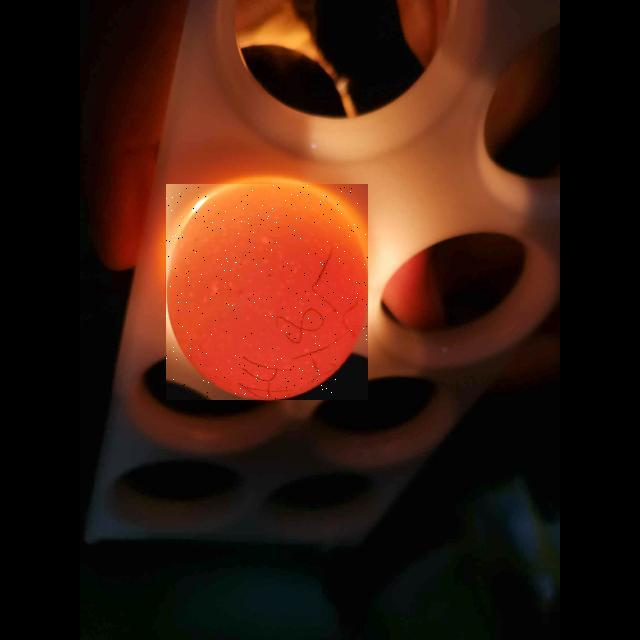Infertile: (166, 184, 368, 400)
